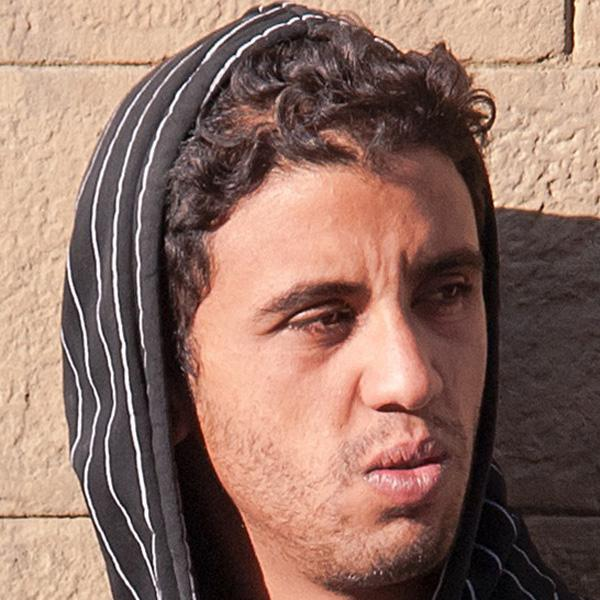Eyes: (275, 290, 365, 350), (404, 269, 480, 322)
